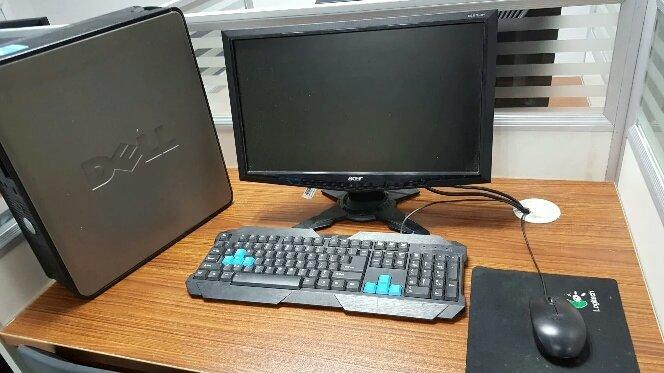keyboard: (186, 225, 469, 326)
mouse: (528, 294, 590, 365)
